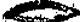Mouth: (3, 1, 80, 22)
